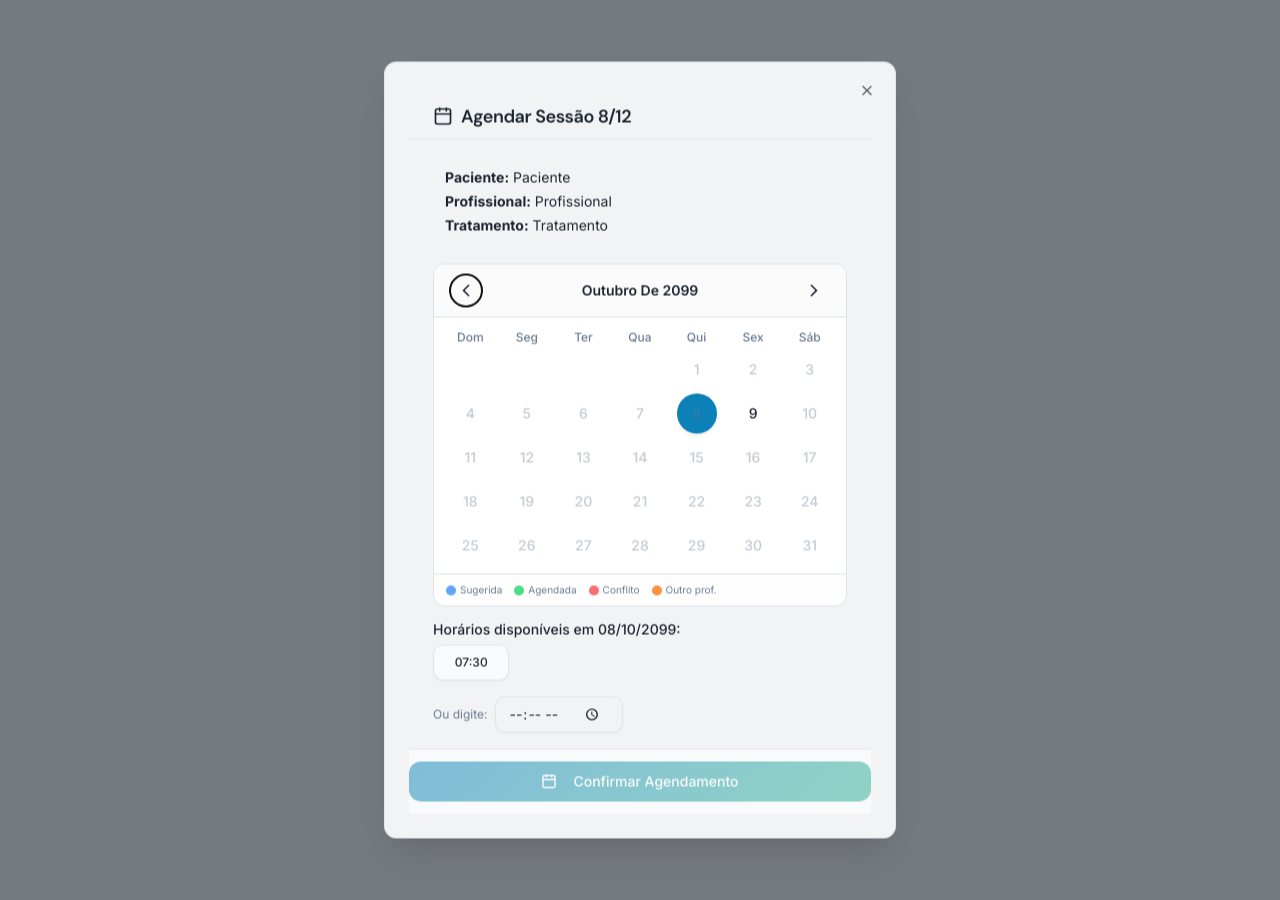
Test: ModalAgendarSessao › permite outra hora em uma data com agendamento do mesmo paciente e profissional
Later steps or results of the test are not shown.
Click the button "9" at x=753, y=414, box [735,396,771,432]
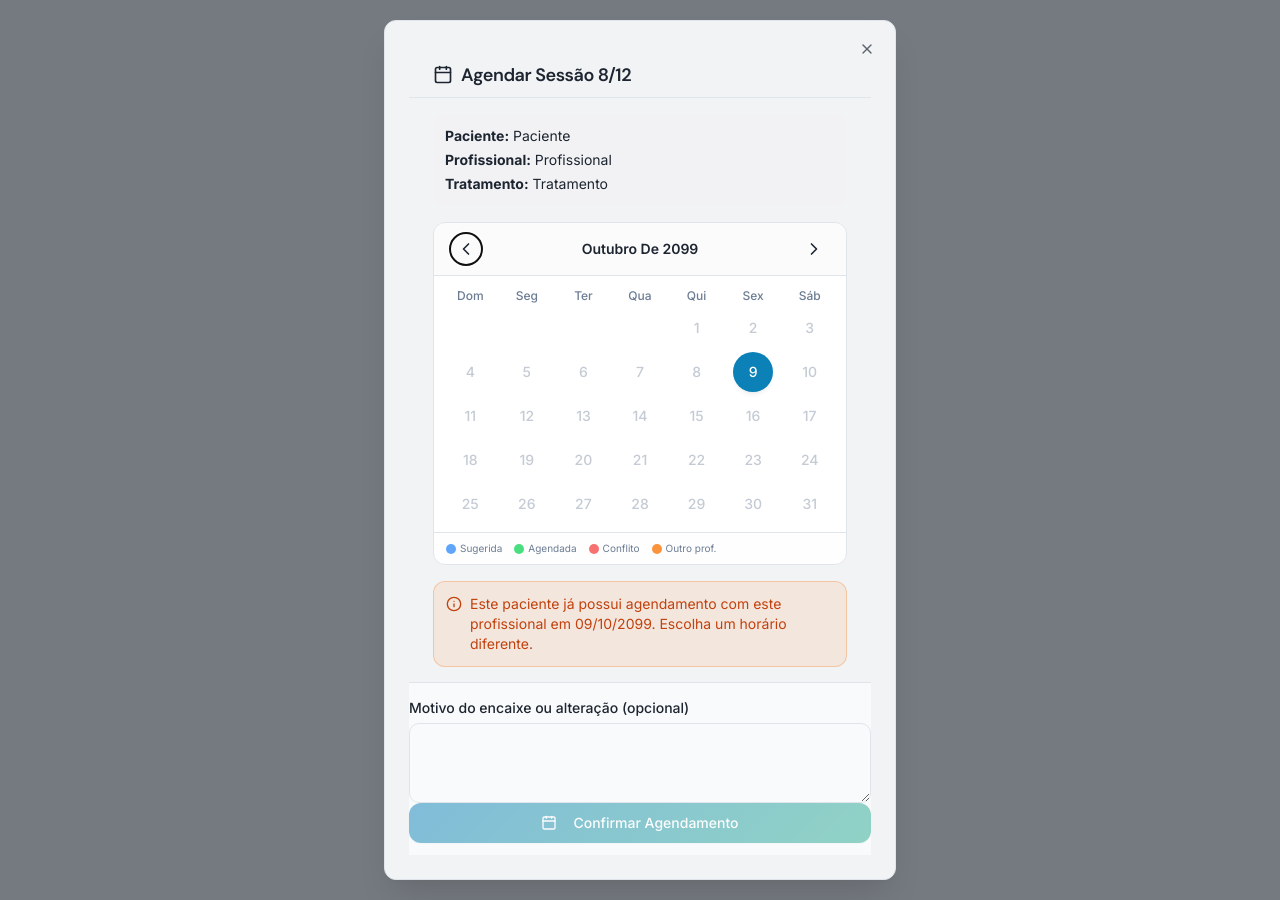
Expected: the text "já possui agendamento com este profissional" is shown, [470,595,787,652]
